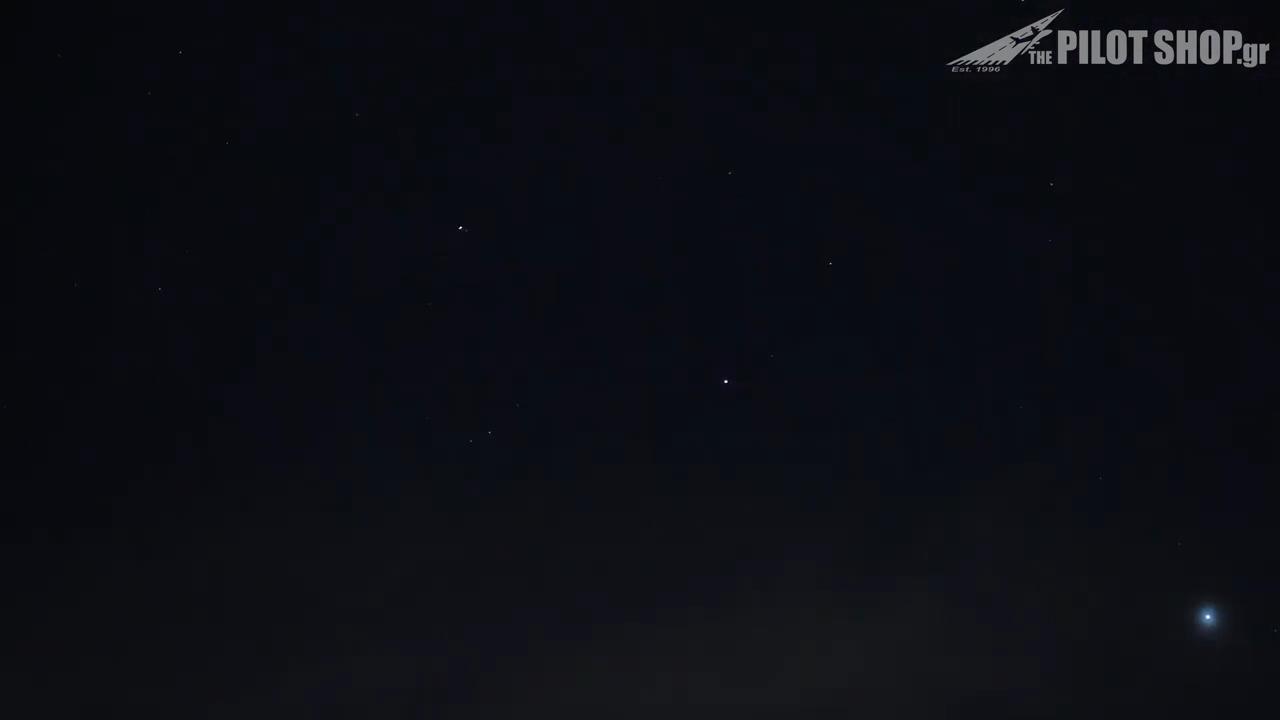Plane: (453, 222, 477, 239)
